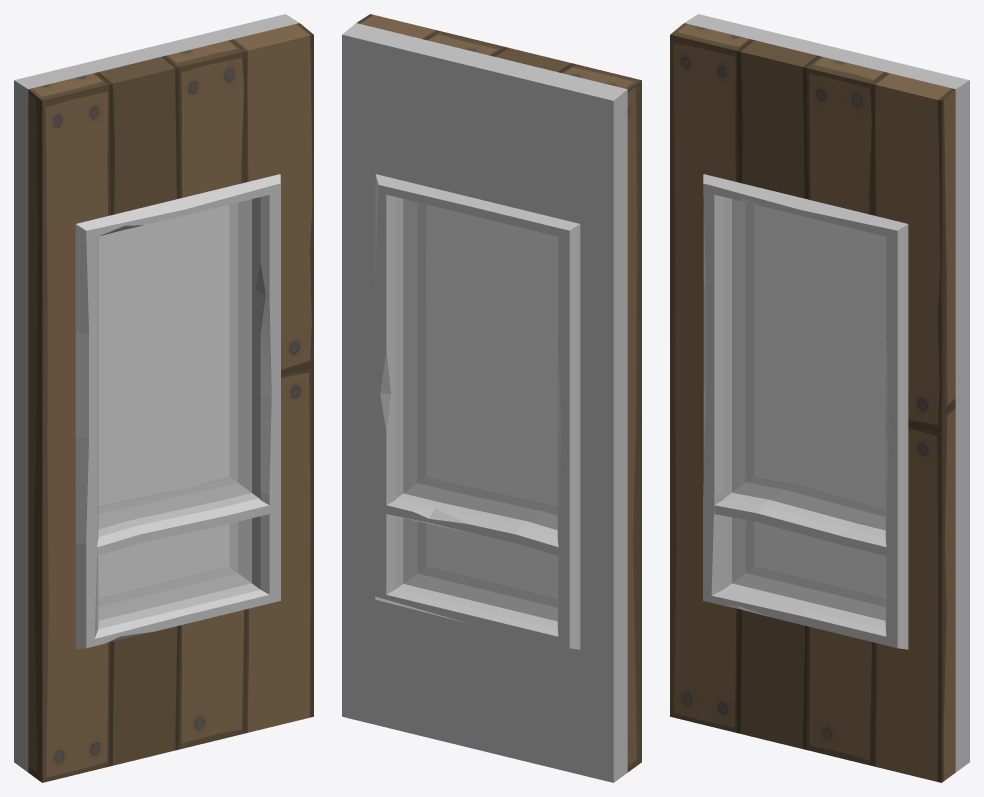
The model's file is SM_Bld_Wall_Window_04_Half_01.fbx.
3 views of the same model, side by side, from view 1: azimuth 30°, elevation 25°; view 2: azimuth 150°, elevation 25°; view 3: azimuth 330°, elevation 25° (orthographic).
Visible parts, largest first — view 1: SM_Bld_Wall_Window_04_Half_01, SM_Bld_Wall_Window_04_Half_Glass_01; view 2: SM_Bld_Wall_Window_04_Half_01, SM_Bld_Wall_Window_04_Half_Glass_01; view 3: SM_Bld_Wall_Window_04_Half_01, SM_Bld_Wall_Window_04_Half_Glass_01.
Part boxes in pixels (x1=…): SM_Bld_Wall_Window_04_Half_01: x1=14, y1=14, x2=313, y2=782; SM_Bld_Wall_Window_04_Half_Glass_01: x1=98, y1=199, x2=251, y2=620; SM_Bld_Wall_Window_04_Half_01: x1=342, y1=14, x2=641, y2=782; SM_Bld_Wall_Window_04_Half_Glass_01: x1=403, y1=199, x2=557, y2=621; SM_Bld_Wall_Window_04_Half_01: x1=670, y1=14, x2=969, y2=782; SM_Bld_Wall_Window_04_Half_Glass_01: x1=732, y1=199, x2=886, y2=620.
Bounding box in the file's own units: 125 × 301 × 31.15.
